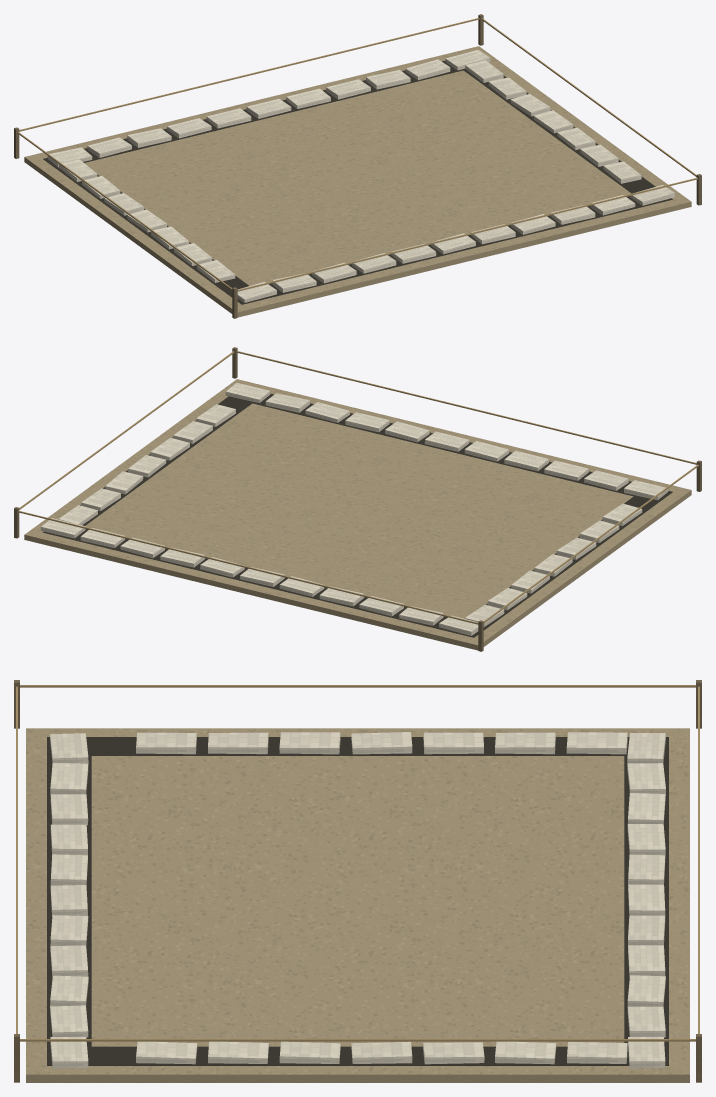
The model's file is pol-3-site.glb.
The picture shows the model from 3 angles, top to bottom: view 1: azimuth 30°, elevation 25°; view 2: azimuth 150°, elevation 25°; view 3: azimuth 270°, elevation 25°; orthographic projection. The views are drawn at different scales.
Bounding box in the file's own units: 28.2 × 2.02 × 23.
5 materials, 3 textured.
